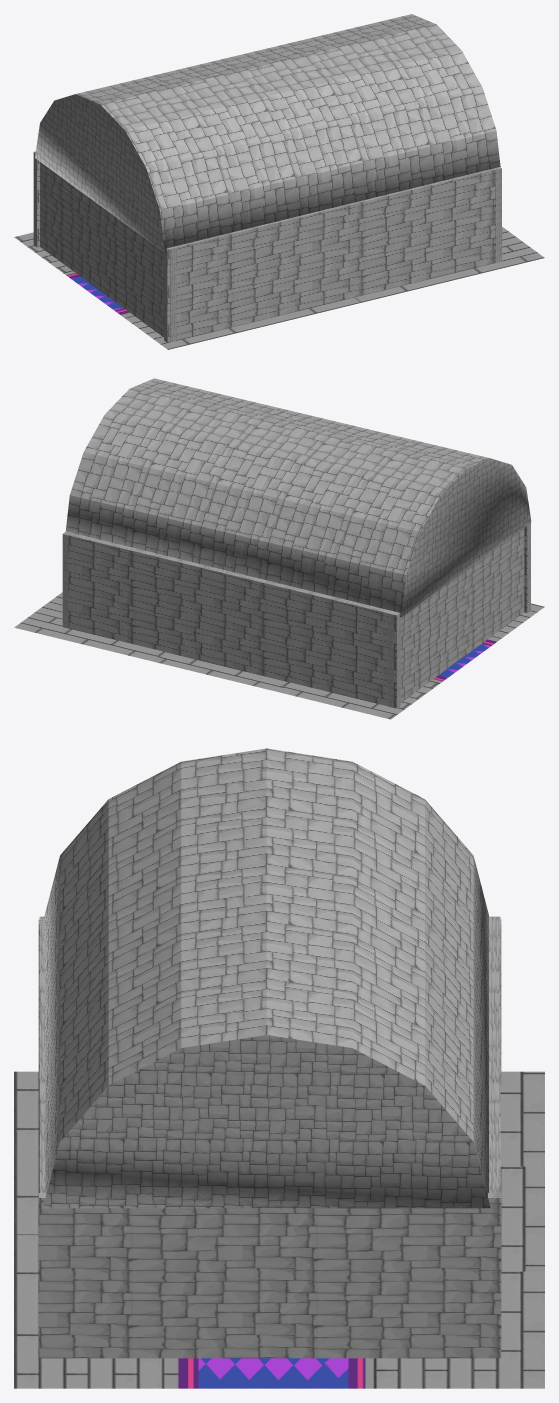
Rendered from castle_tryagain.fbx.
3 renders of one model, top to bottom at view 1: azimuth 30°, elevation 25°; view 2: azimuth 150°, elevation 25°; view 3: azimuth 270°, elevation 25°, orthographic. The views are drawn at different scales.
Parts seen in each view (by area): view 1: wall1, wall3, wall5, castle_floor, wall2, wall4; view 2: wall1, wall4, wall5, castle_floor, wall2, wall3; view 3: wall1, wall2, castle_floor, wall4, wall3.
Part boxes in pixels (<box>): wall1: <box>35,14,500,252</box>; wall3: <box>164,168,495,342</box>; wall5: <box>40,162,176,342</box>; castle_floor: <box>14,227,544,349</box>; wall2: <box>494,167,501,262</box>; wall4: <box>33,151,39,247</box>; wall1: <box>65,378,531,617</box>; wall4: <box>68,533,400,708</box>; wall5: <box>388,528,524,707</box>; castle_floor: <box>14,592,544,719</box>; wall2: <box>62,531,71,628</box>; wall3: <box>524,523,530,612</box>; wall1: <box>43,748,490,1208</box>; wall2: <box>38,1193,501,1358</box>; castle_floor: <box>14,1071,544,1388</box>; wall4: <box>489,916,500,1192</box>; wall3: <box>39,916,45,1192</box>.
Bounding box in the file's own units: 14057 × 6920 × 9951.
